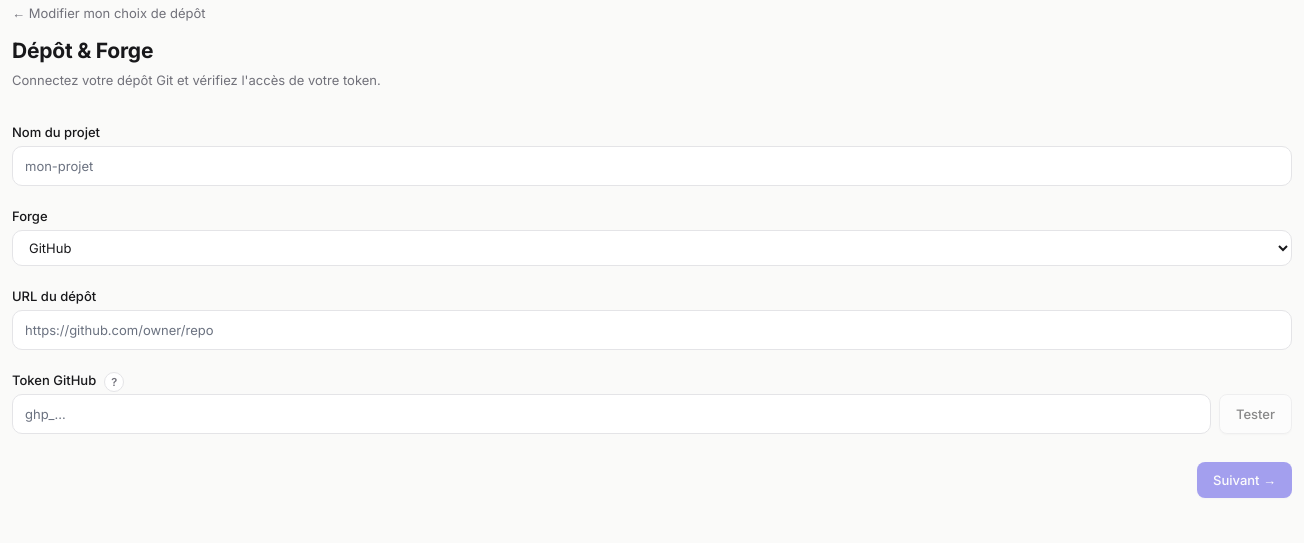
RepoPage (step 1) › shows success badge after successful forge validation
Type "kara" into the field labelled "Nom du projet". click: (652, 166)
box: [12, 146, 1292, 186]
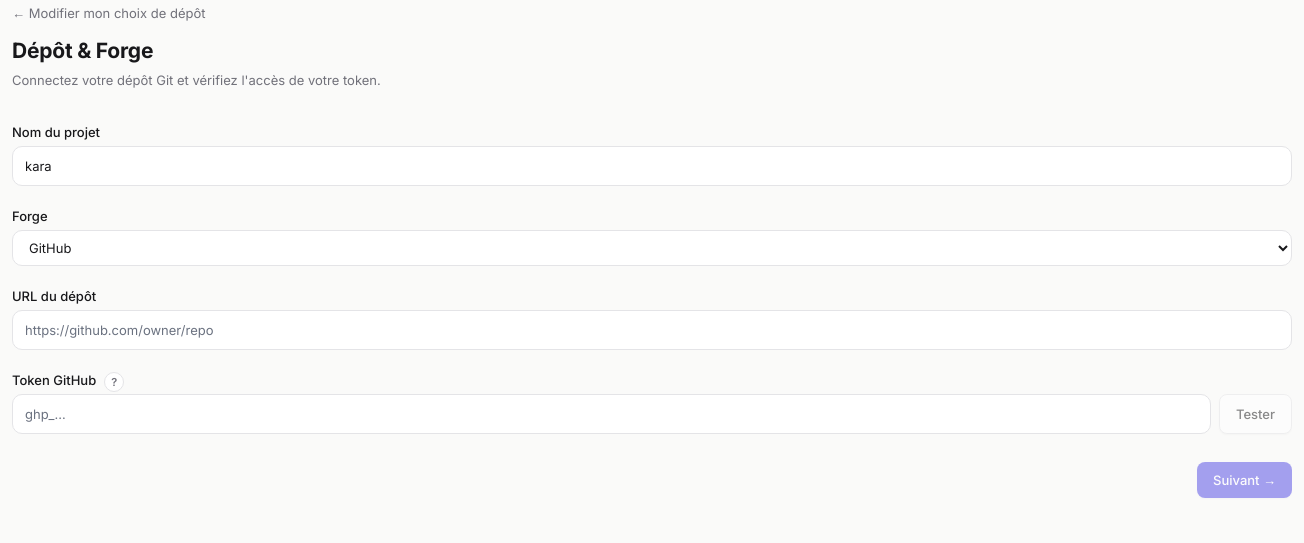
Type "https://github.com/acme/proj-demo" into the field labelled "URL du dépôt". click: (652, 330)
box: [12, 310, 1292, 350]
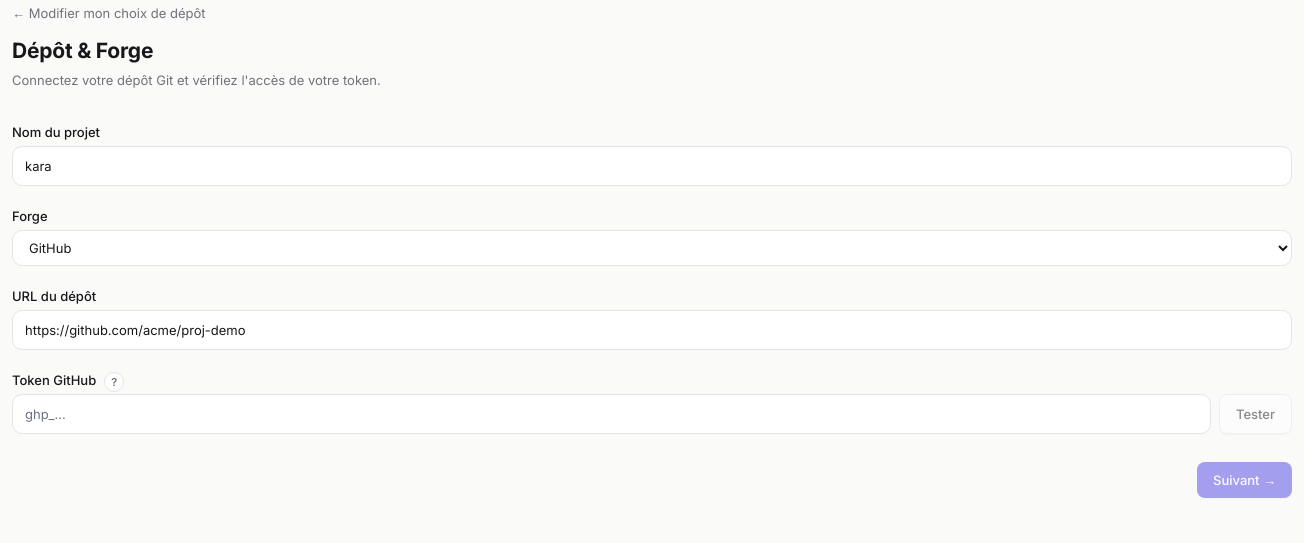
Type "ghp_xxx" into the password field with placeholder "ghp_…". click: (611, 414)
box: [12, 394, 1211, 434]
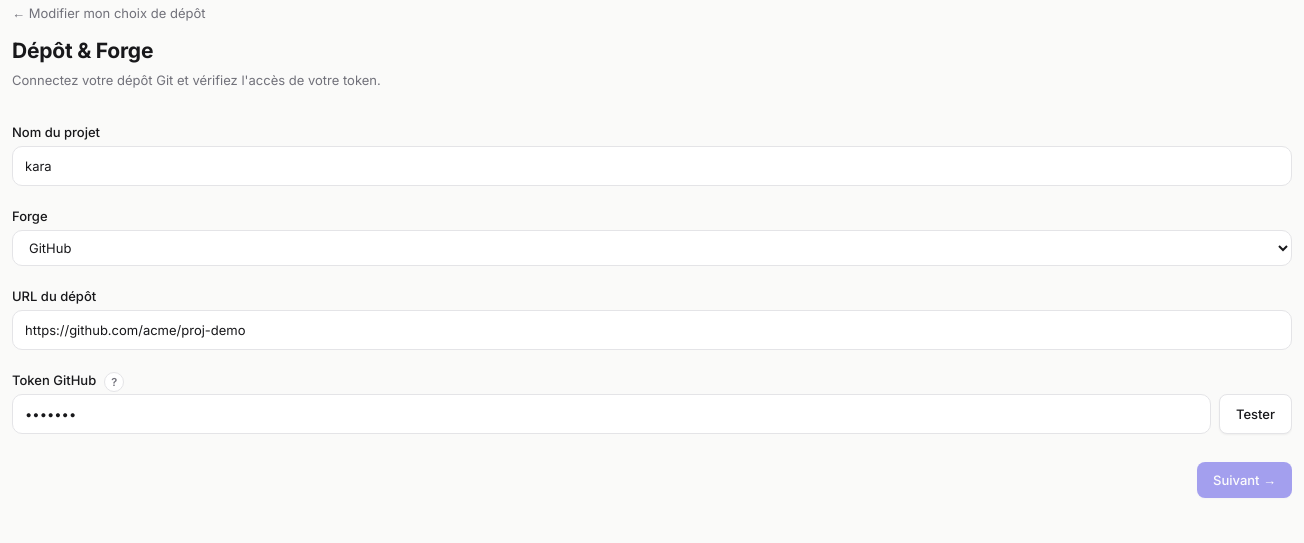
Click the button "Tester". click: (1255, 414)
box: [1219, 394, 1292, 434]
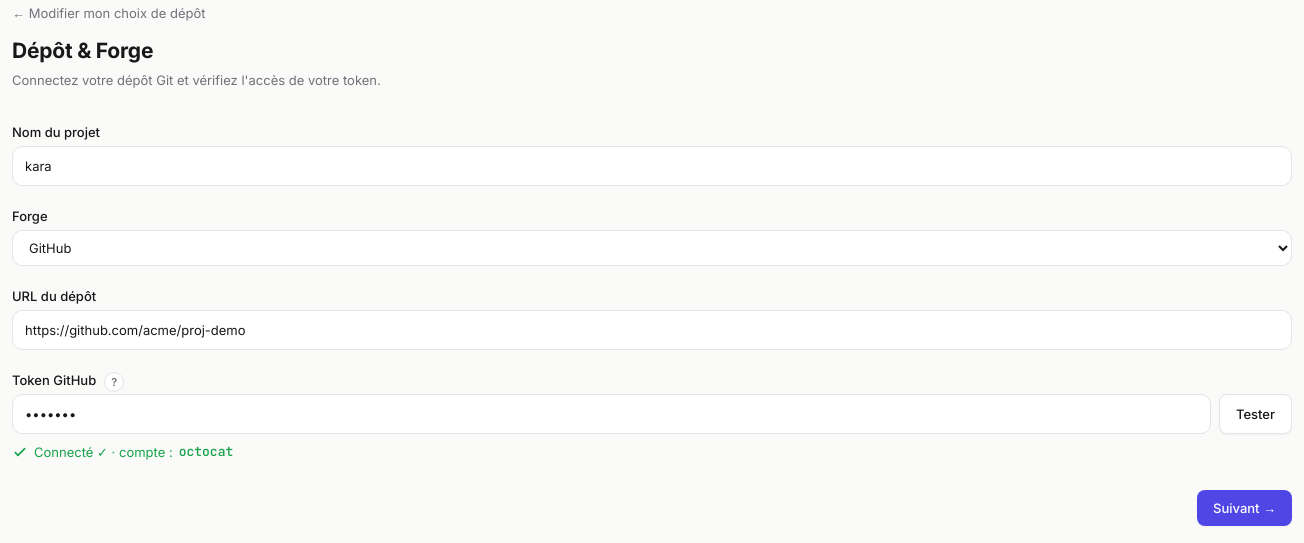
Expected: the text "Connecté ✓ · compte : octocat" is shown, [12, 443, 233, 460]
Expected: the text "octocat" is shown, [179, 442, 233, 462]
Expected: the button "Suivant →" is enabled, [1197, 490, 1292, 526]
